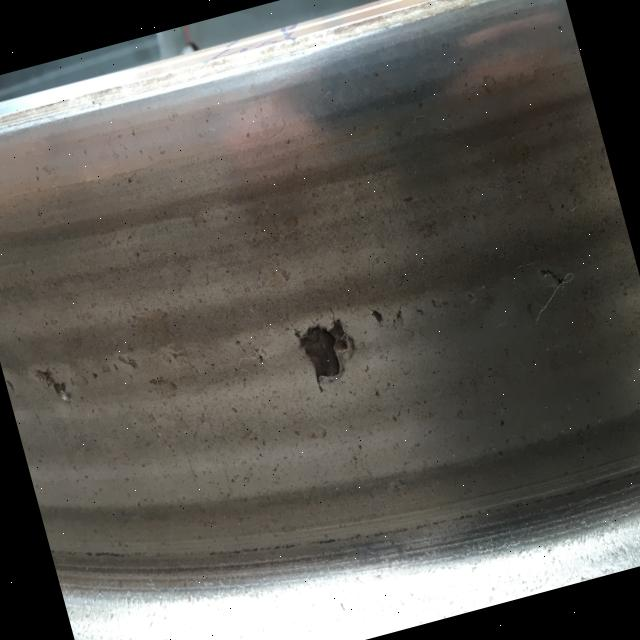Blue hole: (296, 317, 367, 393)
Peeling: (37, 365, 71, 408), (541, 264, 564, 288), (371, 306, 385, 326), (393, 309, 405, 324)
